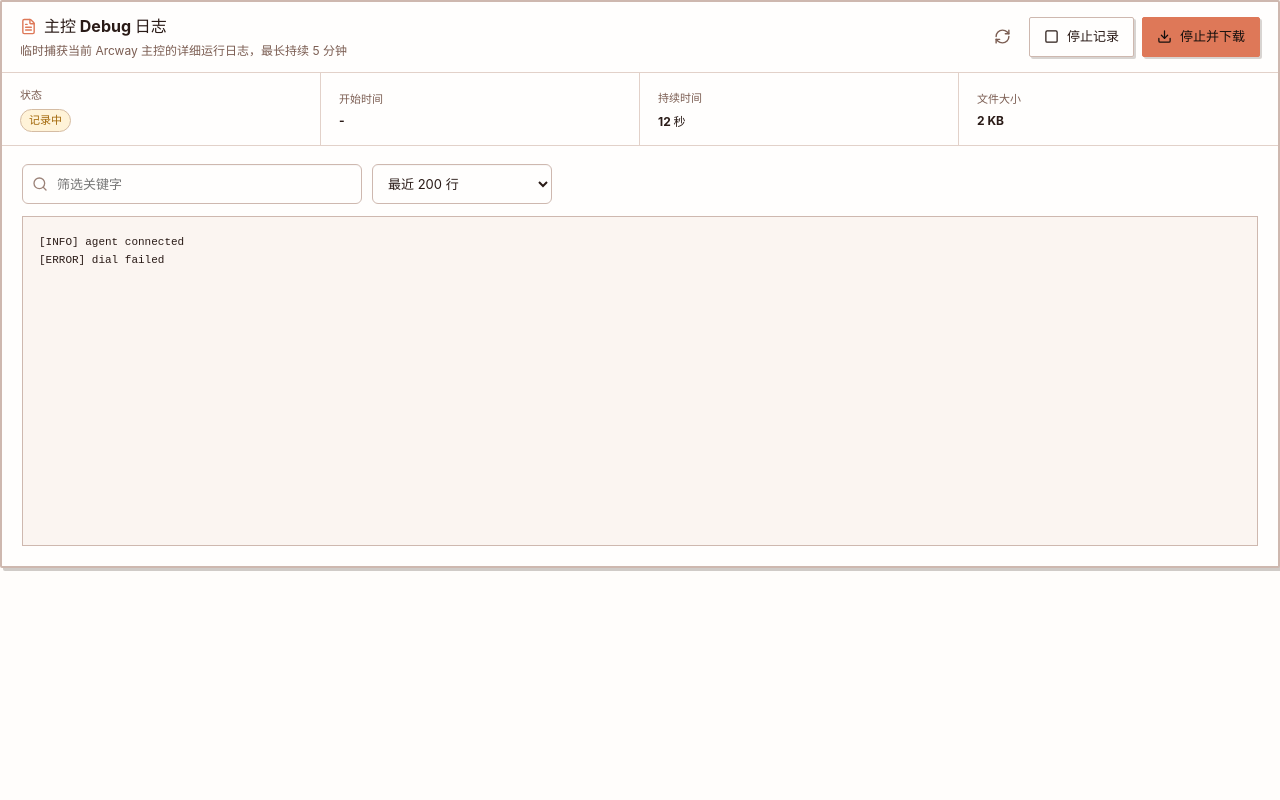
Scenario: main controller debug logs › loads status and tail endpoints and filters visible lines
The width and height of the screenshot is (1280, 800).
expect the text "[INFO] agent connected" is shown: met, box [39,236,184,266]
Type "error" into the field named "筛选日志".
click(192, 184); type("error")  # box [22,164,362,204]
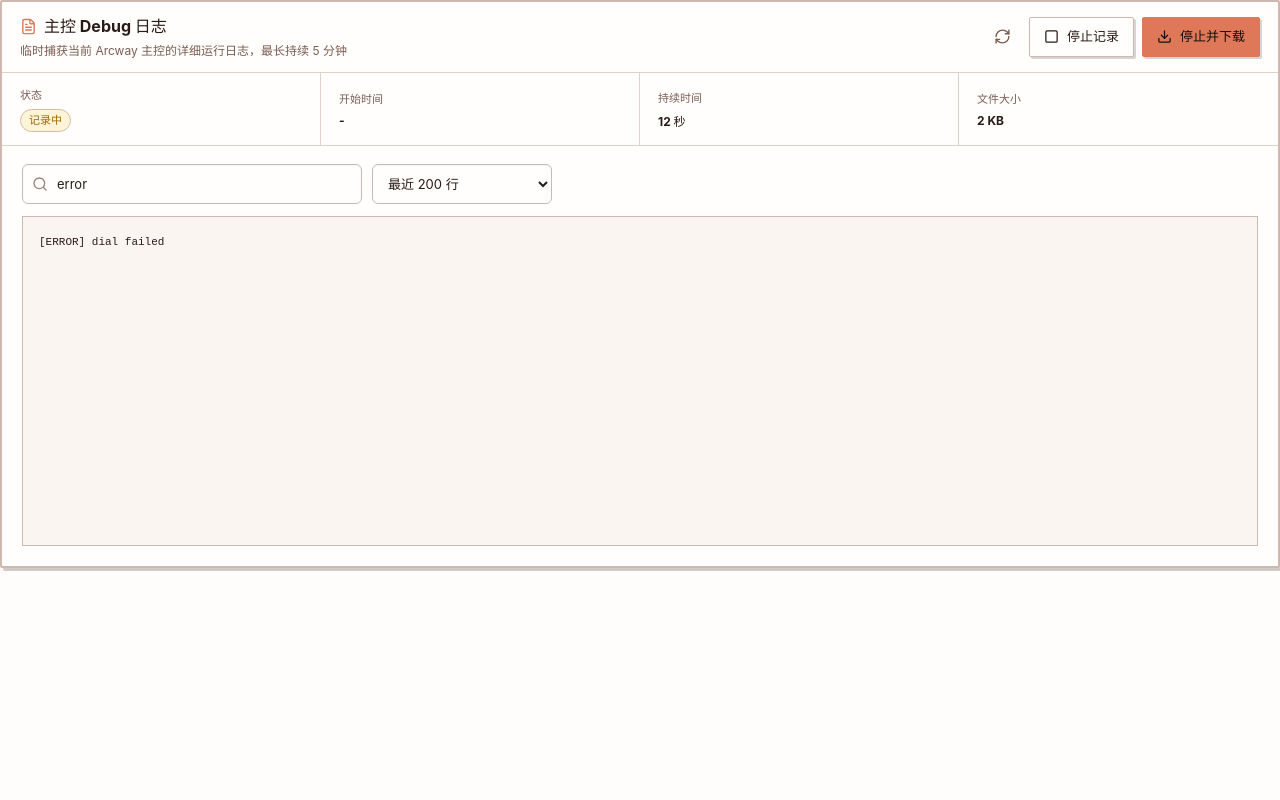
expect the text named "主控 Debug 日志内容" reads "[ERROR] dial failed": met, box [39,236,164,248]
expect the text named "主控 Debug 日志内容" no longer shows "agent connected": met, box [22,216,1258,546]
